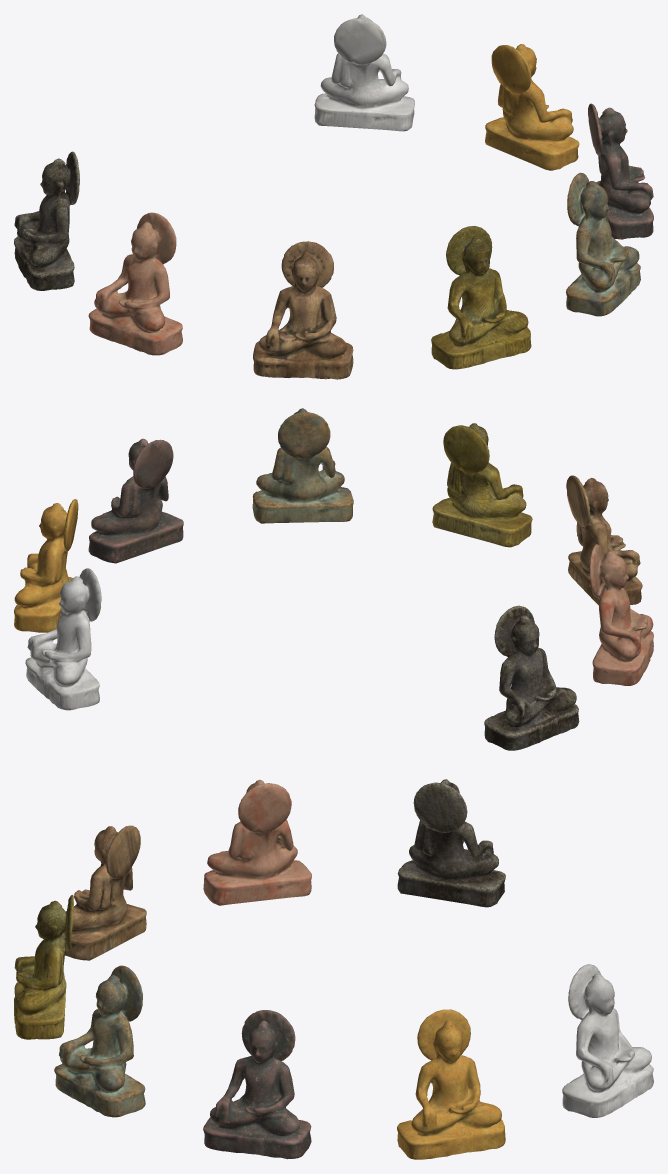
Rendered from tuongnho.glb.
3 views of the same model, one above another, from view 1: azimuth 30°, elevation 25°; view 2: azimuth 150°, elevation 25°; view 3: azimuth 270°, elevation 25° (orthographic). The views are drawn at different scales.
Visible parts, largest first — view 1: wood, original, terracota, marble, gold, bronze, stone, copper; view 2: stone, bronze, original, copper, marble, terracota, gold, wood; view 3: gold, copper, stone, terracota, marble, bronze, wood, original.
Boxes of the visible parts, box(x1,y1,x2,y2) form: wood: box(253, 241, 353, 379); original: box(431, 226, 531, 369); terracota: box(88, 212, 182, 355); marble: box(314, 14, 414, 131); gold: box(485, 44, 579, 170); bronze: box(566, 172, 640, 316); stone: box(14, 151, 79, 290); copper: box(588, 103, 653, 239); stone: box(484, 605, 579, 750); bronze: box(252, 408, 353, 523); original: box(432, 423, 532, 547); copper: box(88, 438, 183, 563); marble: box(25, 568, 101, 710); terracota: box(589, 544, 653, 685); gold: box(14, 499, 78, 632); wood: box(566, 475, 642, 605); gold: box(397, 1009, 505, 1159); copper: box(203, 1010, 311, 1159); stone: box(397, 779, 505, 907); terracota: box(203, 779, 311, 905); marble: box(562, 964, 653, 1117); bronze: box(54, 965, 145, 1117); wood: box(62, 825, 146, 960); original: box(14, 895, 73, 1039).
Size of the model in its own units: 510 by 103 by 487.
Materials: 8 (8 with a texture image).
